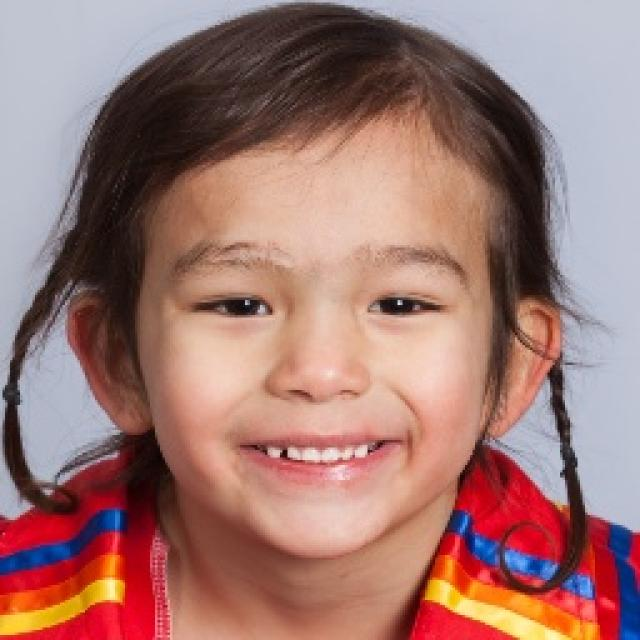earlobe: (105, 398, 158, 439), (483, 403, 526, 441)
eye: (195, 285, 280, 328), (365, 288, 448, 326)
nose: (274, 387, 372, 423)
wholeear: (65, 294, 158, 438), (483, 297, 562, 439)
